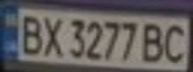2: (81, 16, 106, 61)
3: (63, 15, 87, 60)
7: (118, 18, 142, 62), (103, 17, 124, 61)
B: (15, 11, 45, 55), (139, 20, 169, 63)
C: (160, 20, 190, 64)
X: (36, 12, 66, 57)
